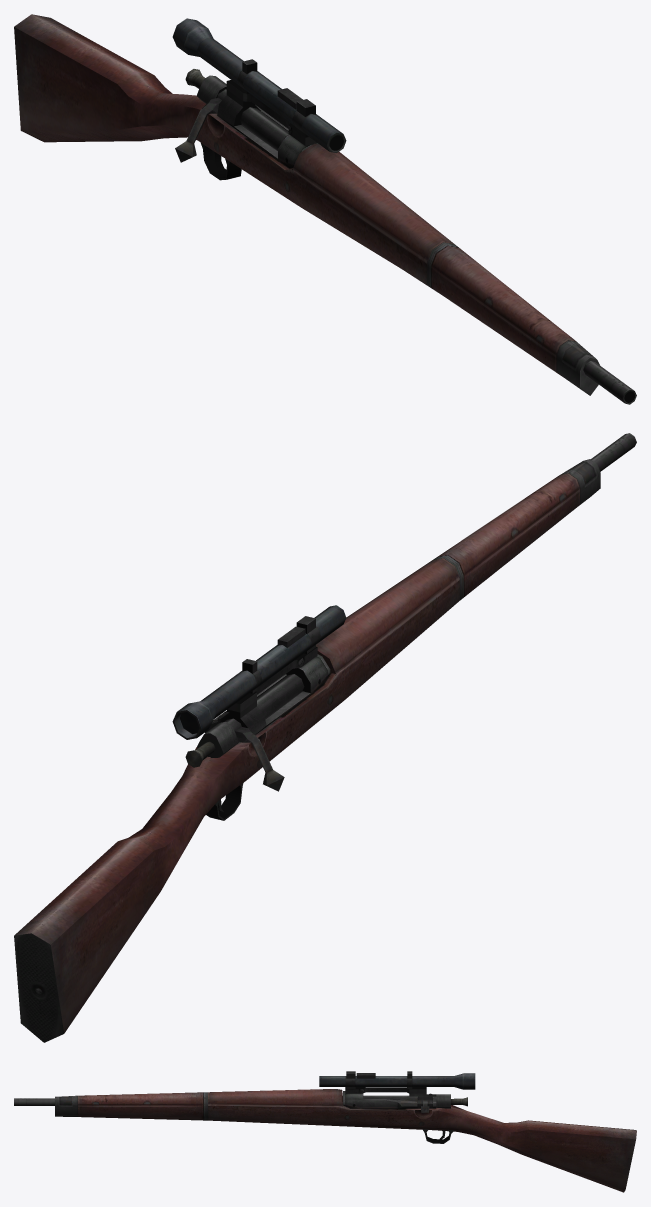
The model's file is w_spring.glb.
3 views of the same model, one above another, from view 1: azimuth 30°, elevation 25°; view 2: azimuth 150°, elevation 25°; view 3: azimuth 270°, elevation 25° (orthographic). The views are drawn at different scales.
Parts seen in each view (by area): view 1: w_spring; view 2: w_spring; view 3: w_spring.
Part boxes in pixels (box(x1,y1,x2,y2)): w_spring: box(14, 14, 636, 404); w_spring: box(14, 433, 636, 1042); w_spring: box(14, 1071, 636, 1192).
Size of the model in its own units: 0.0641 by 0.1788 by 0.8409.
Materials: 1 (1 with a texture image).
